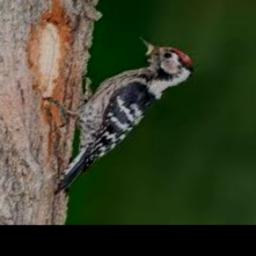Woodpecker: (44, 37, 195, 193)
